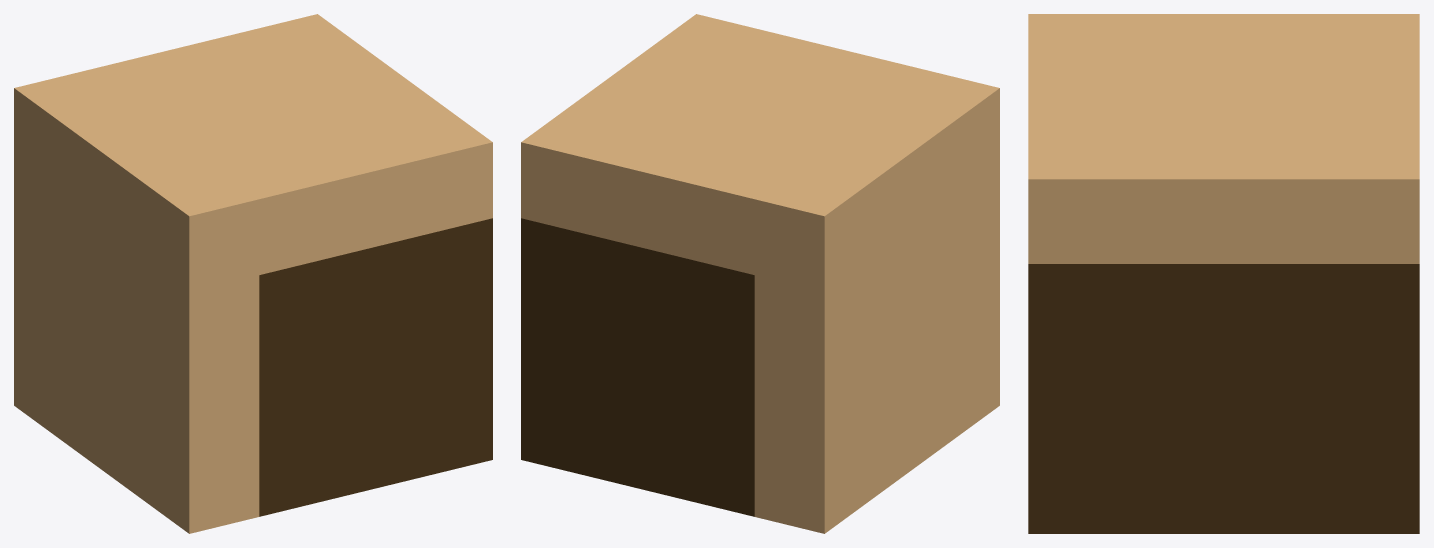
File: floor_2.fbx
3 views of the same model, side by side, from view 1: azimuth 30°, elevation 25°; view 2: azimuth 150°, elevation 25°; view 3: azimuth 270°, elevation 25° (orthographic). The views are drawn at different scales.
Parts seen in each view (by area): view 1: Floor.001; view 2: Floor.001; view 3: Floor.001.
Boxes of the visible parts, box(x1,y1,x2,y2) form: Floor.001: box(14, 14, 492, 533); Floor.001: box(521, 14, 999, 533); Floor.001: box(1028, 14, 1419, 533).
Bounding box in the file's own units: 1 × 1 × 1.
